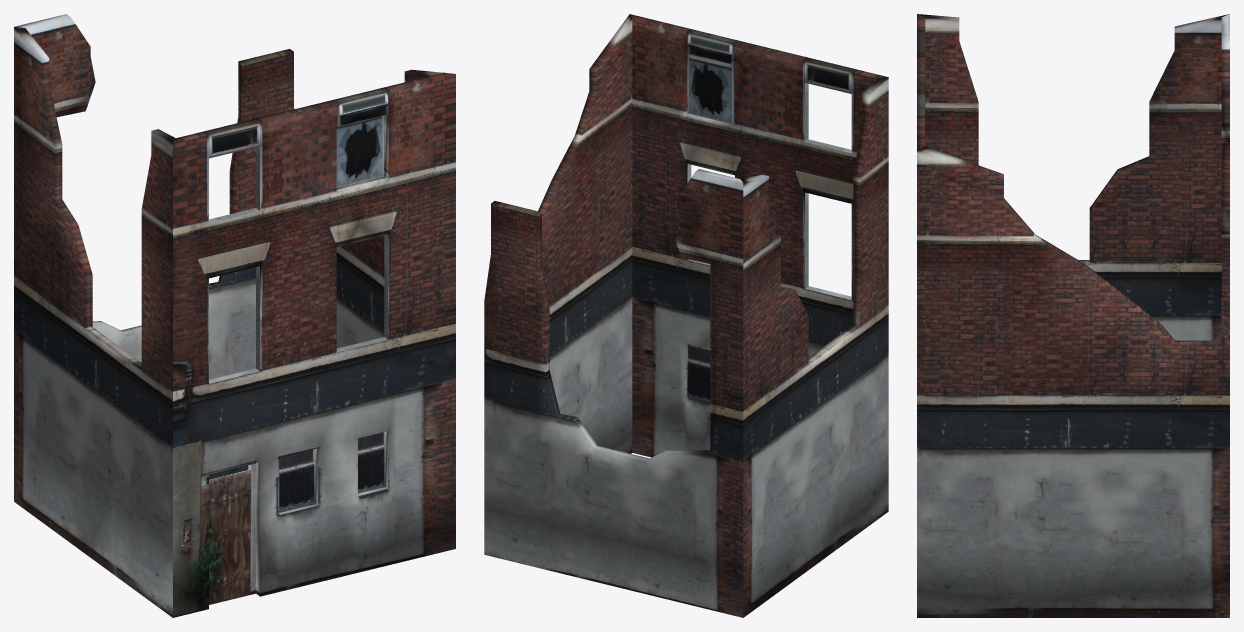
File: building18.obj
3 renders of one model, left to right at view 1: azimuth 30°, elevation 25°; view 2: azimuth 150°, elevation 25°; view 3: azimuth 270°, elevation 25°, orthographic. The views are drawn at different scales.
Visible parts, largest first — view 1: def_surf_mat; view 2: def_surf_mat; view 3: def_surf_mat.
Part boxes in pixels (x1,y1,x2,y2): def_surf_mat: (14,14,455,617); def_surf_mat: (484,14,888,617); def_surf_mat: (917,14,1229,617).
Bounding box in the file's own units: 193 × 309 × 188.
1 material, 1 textured.
